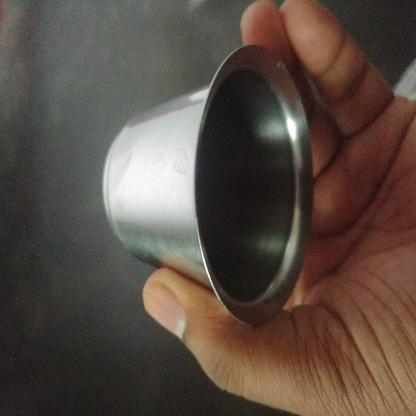cup: (65, 135, 283, 416)
